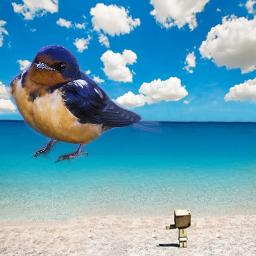Swallow: (5, 43, 162, 163)
